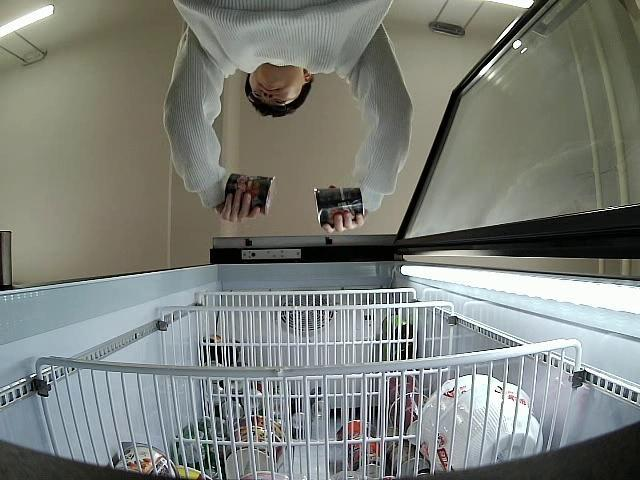08_buldak_S: (224, 173, 275, 215), (312, 186, 362, 228)
